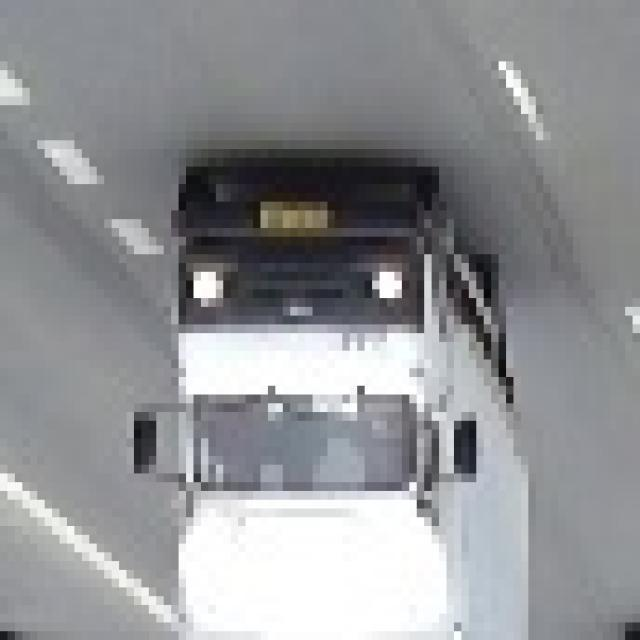Truck: (142, 167, 544, 640)
